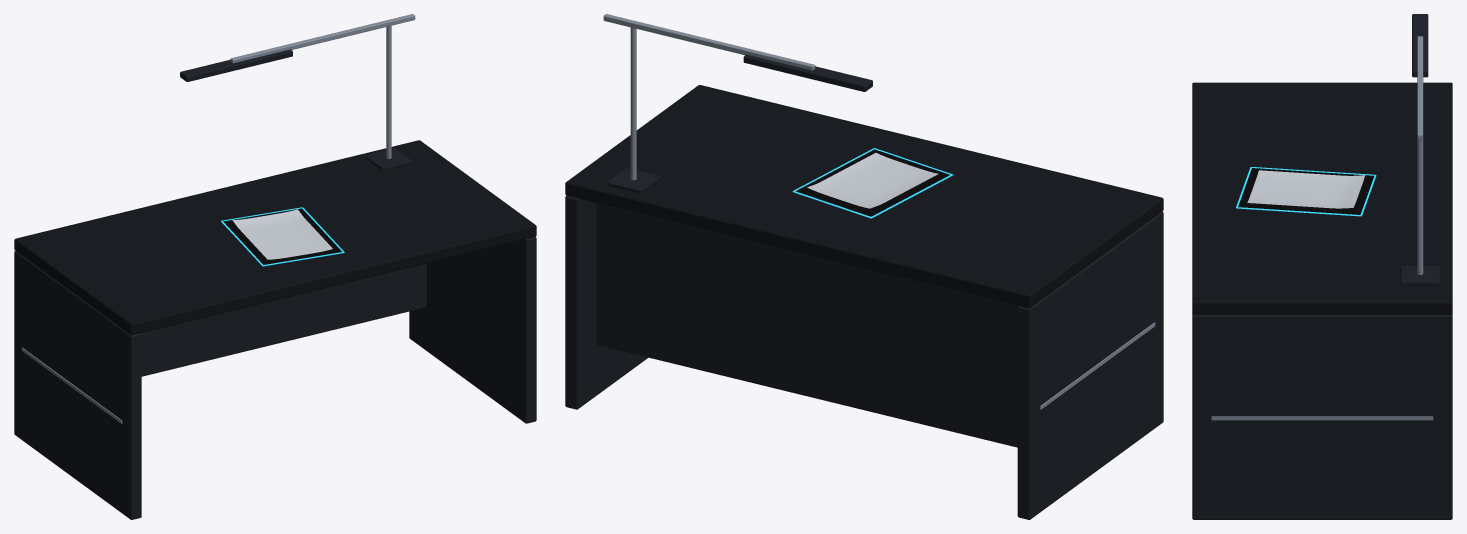
Rendered from ch1-desk.glb.
3 renders of one model, left to right at view 1: azimuth 30°, elevation 25°; view 2: azimuth 150°, elevation 25°; view 3: azimuth 270°, elevation 25°, orthographic. The views are drawn at different scales.
Visible parts, largest first — view 1: top, leg, leg.001, modesty, paper, lamp_arm, slot_floor, lamp_head, lamp_post, lamp_foot; view 2: top, modesty, leg, leg.001, paper, slot_floor, lamp_arm, lamp_head, lamp_post, lamp_foot; view 3: top, leg.001, paper, slot_floor, leg_trim.001, lamp_post, lamp_head, lamp_foot, lamp_arm.
Part boxes in pixels (<box>): top: <box>14,140,536,335</box>; leg: <box>14,251,141,519</box>; leg.001: <box>409,237,536,423</box>; modesty: <box>141,263,426,376</box>; paper: <box>232,209,332,259</box>; lamp_arm: <box>230,14,415,63</box>; slot_floor: <box>223,208,341,264</box>; lamp_head: <box>180,49,292,81</box>; lamp_post: <box>386,25,391,158</box>; lamp_foot: <box>365,148,412,170</box>; top: <box>565,85,1163,308</box>; modesty: <box>596,203,1018,447</box>; leg: <box>1017,211,1163,519</box>; leg.001: <box>565,195,647,409</box>; paper: <box>807,153,938,208</box>; slot_floor: <box>795,149,949,216</box>; lamp_arm: <box>603,14,815,70</box>; lamp_head: <box>743,54,872,91</box>; lamp_post: <box>630,27,636,180</box>; lamp_foot: <box>606,168,660,193</box>; top: <box>1192,82,1452,314</box>; leg.001: <box>1192,314,1452,519</box>; paper: <box>1247,170,1364,208</box>; slot_floor: <box>1238,168,1374,214</box>; leg_trim.001: <box>1211,416,1433,420</box>; lamp_post: <box>1417,139,1423,274</box>; lamp_head: <box>1412,14,1428,77</box>; lamp_foot: <box>1400,266,1439,285</box>; lamp_arm: <box>1417,36,1423,139</box>.
Size of the model in its own units: 1.61 by 1.27 by 0.8.
